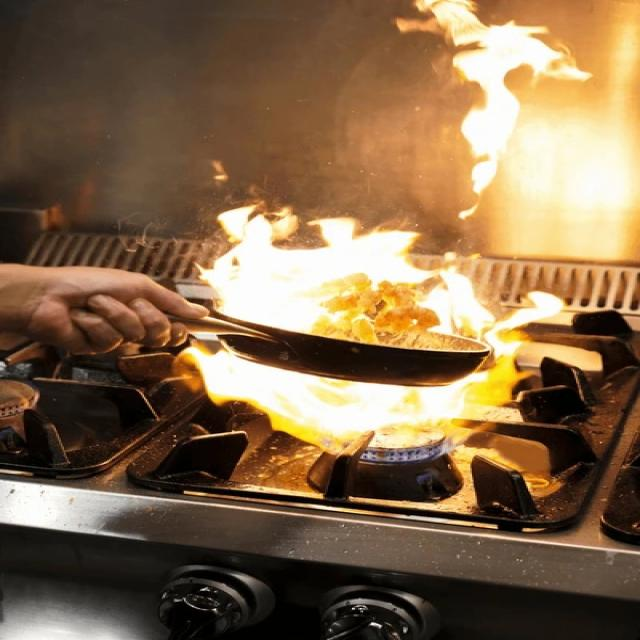fire: (395, 0, 593, 196), (174, 347, 533, 453), (194, 204, 491, 332), (485, 291, 562, 355)
